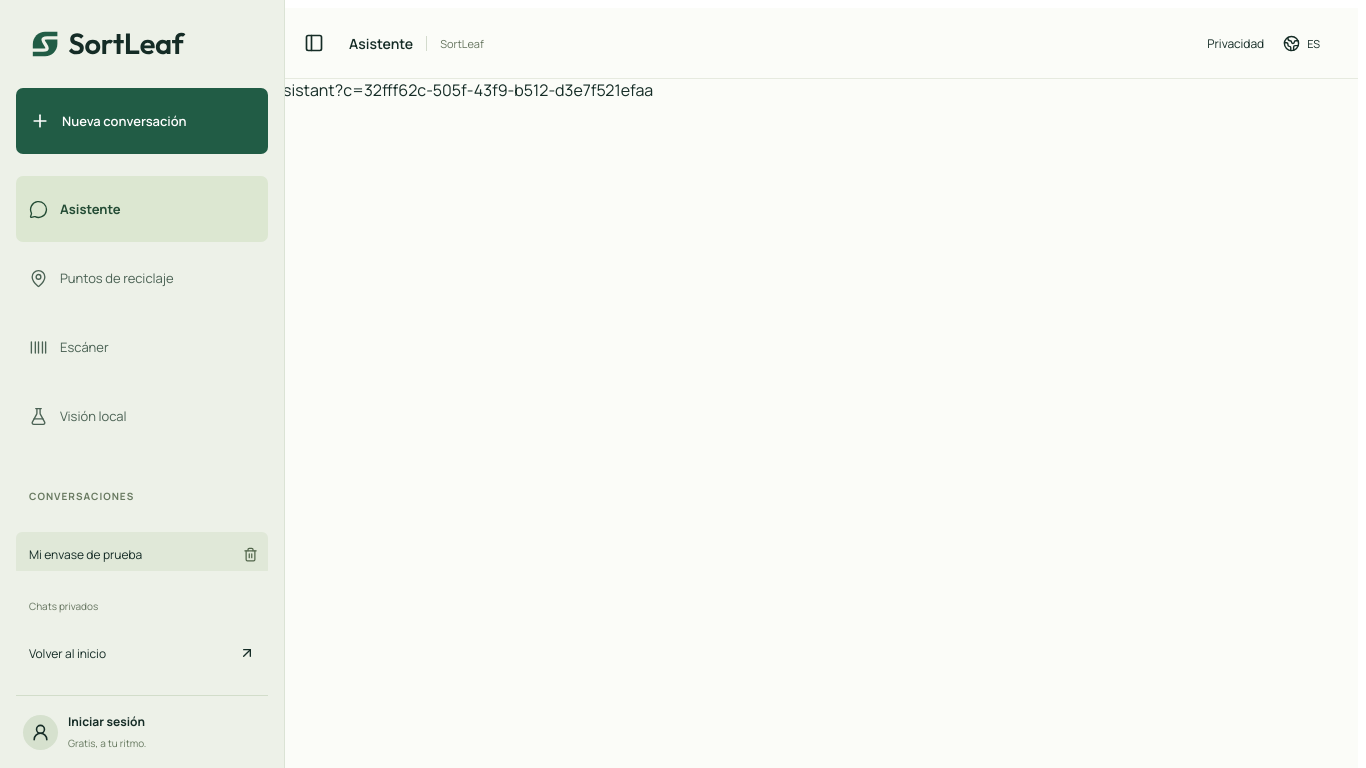
Test: deletes only the selected chat and leaves its route after confirmation
This screenshot has width=1366, height=768.
Click the button named "Eliminar conversación: Mi envase de prueba" at (250,554), box x1=232 y1=532 x2=268 y2=576
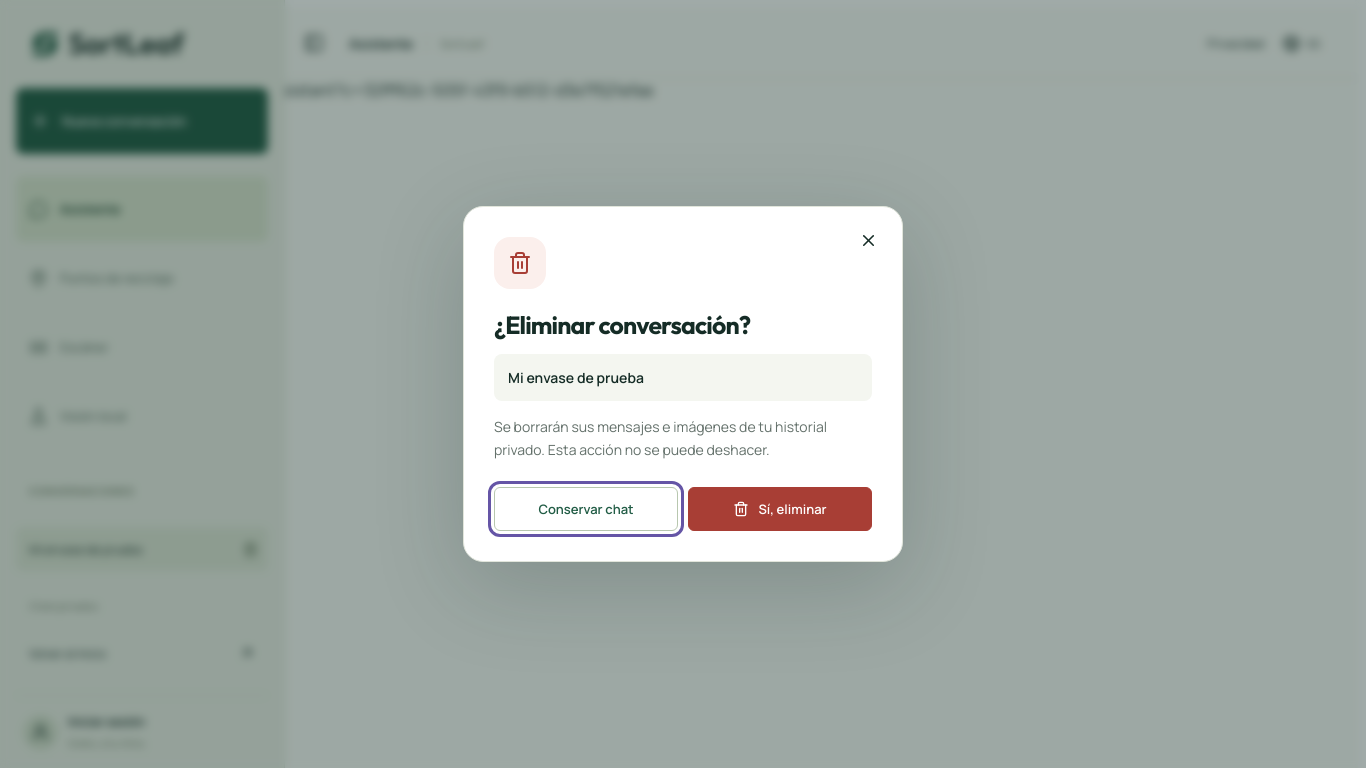
Click the button "Sí, eliminar" at (780,509), box x1=688 y1=487 x2=872 y2=531
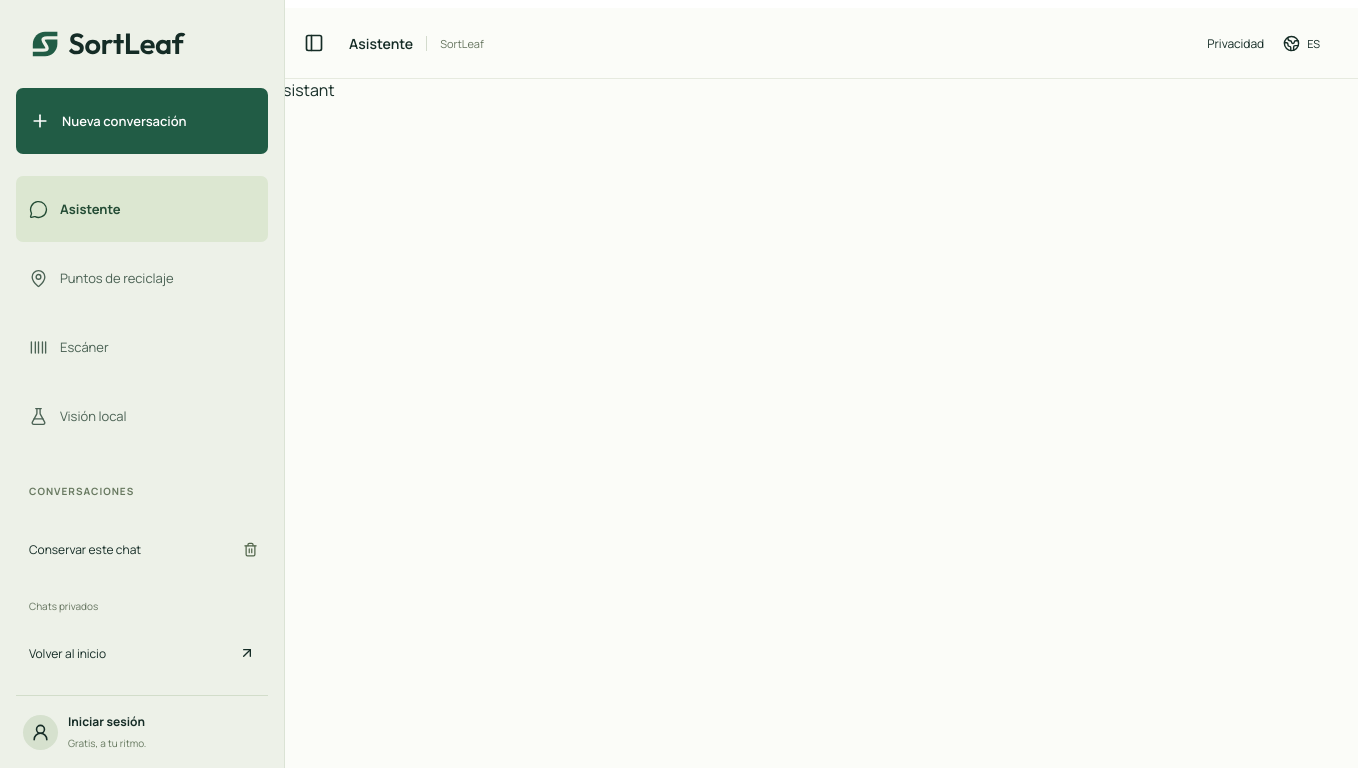
Result: the text "/assistant" is shown at x1=260 y1=79 x2=335 y2=101
